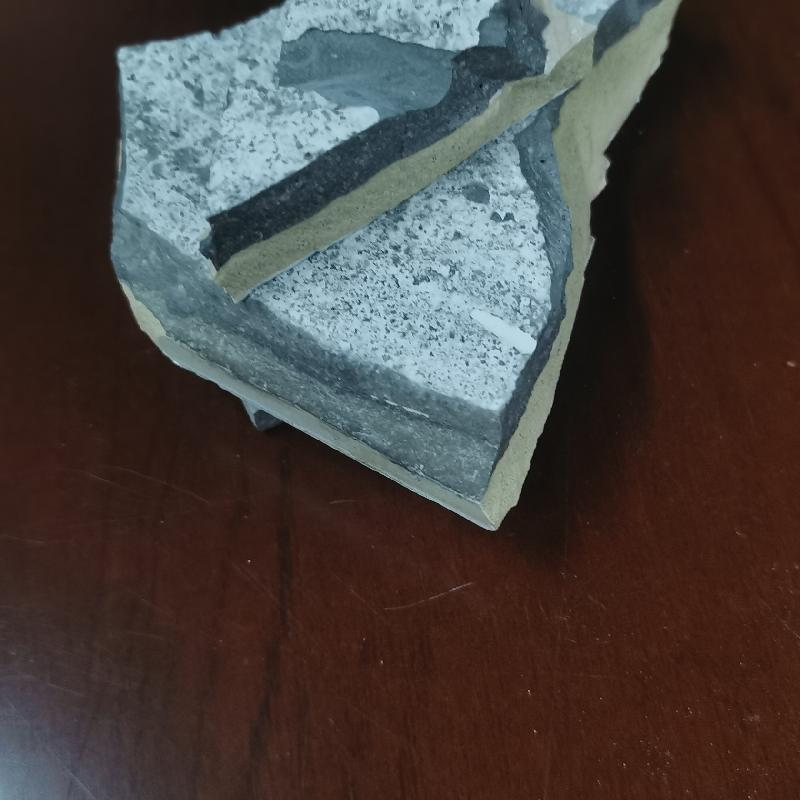tile: (99, 0, 690, 532)
